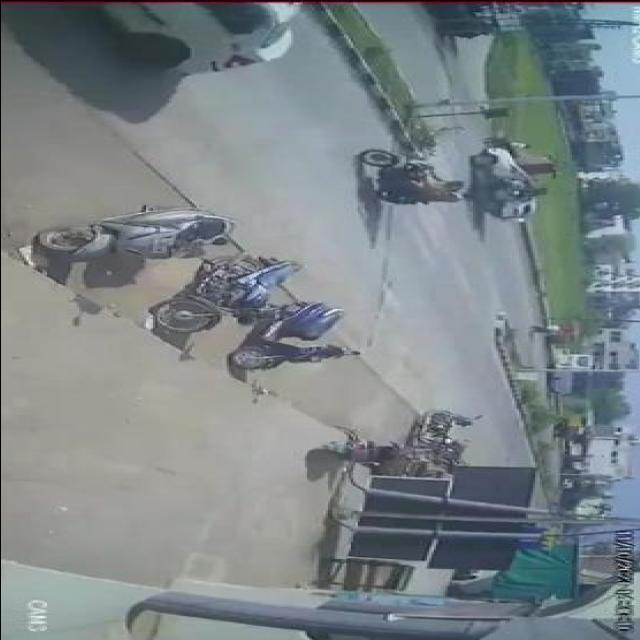accident: (455, 142, 568, 226)
